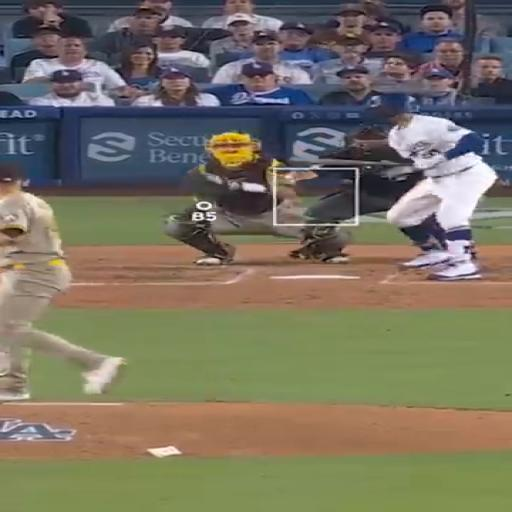bat: (288, 158, 414, 164)
